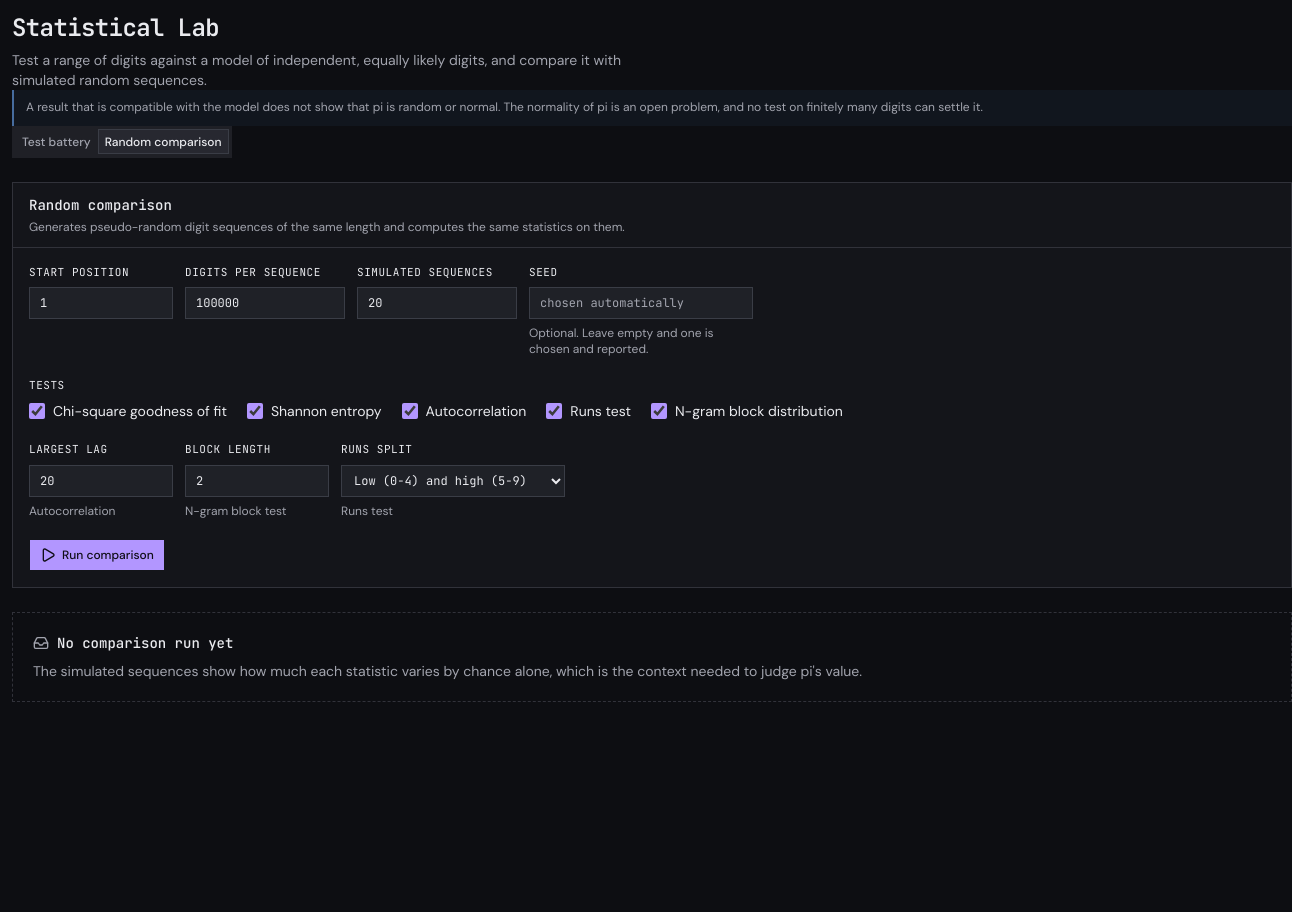
Test: LabView random comparison › enforces the total simulated digit budget
Replace the text in the field labelled "Digits per sequence" with "1000000": [265, 303] box [185,287,345,319]
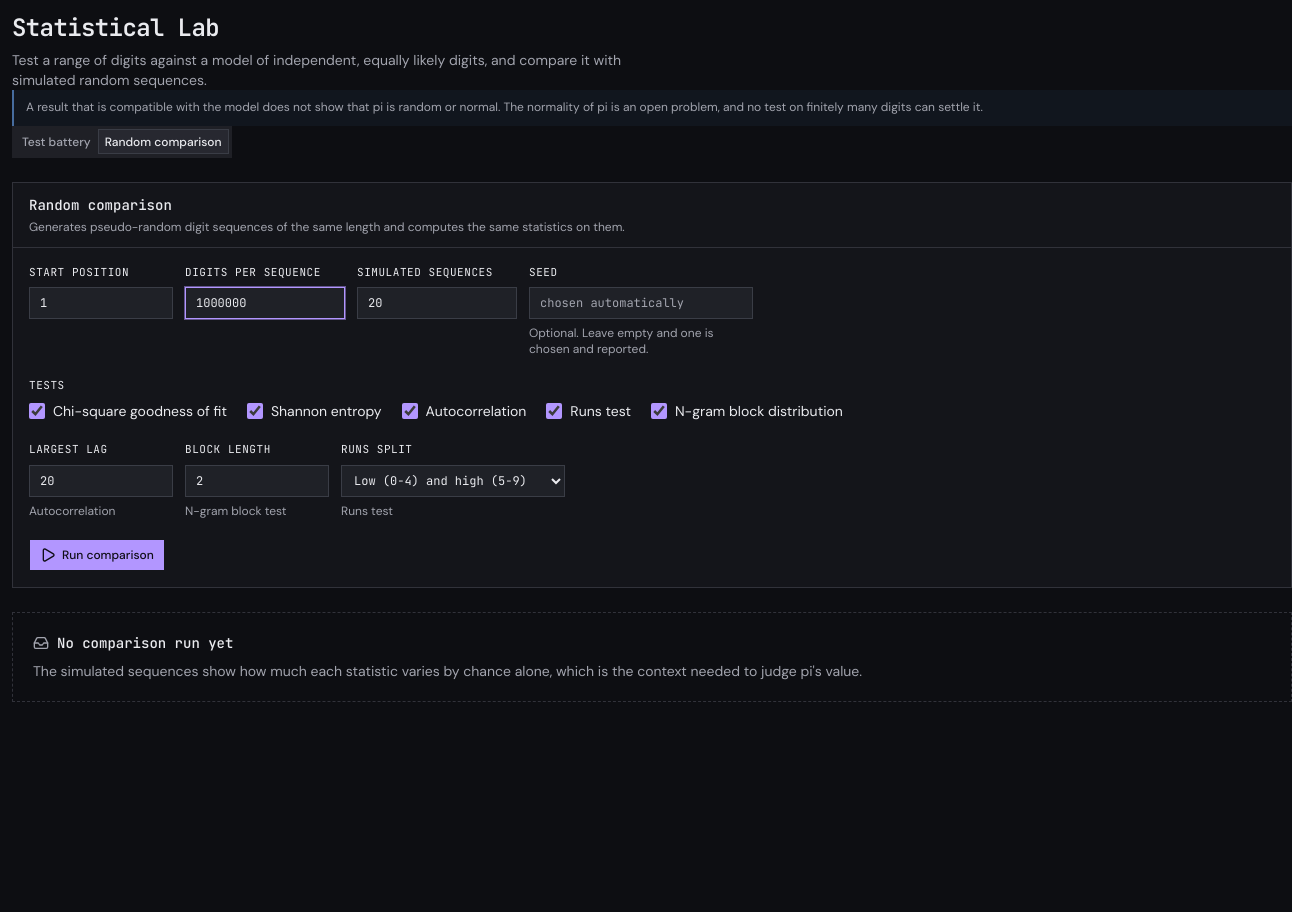
Replace the text in the field labelled "Simulated sequences" with "100": [437, 303] box [357,287,517,319]
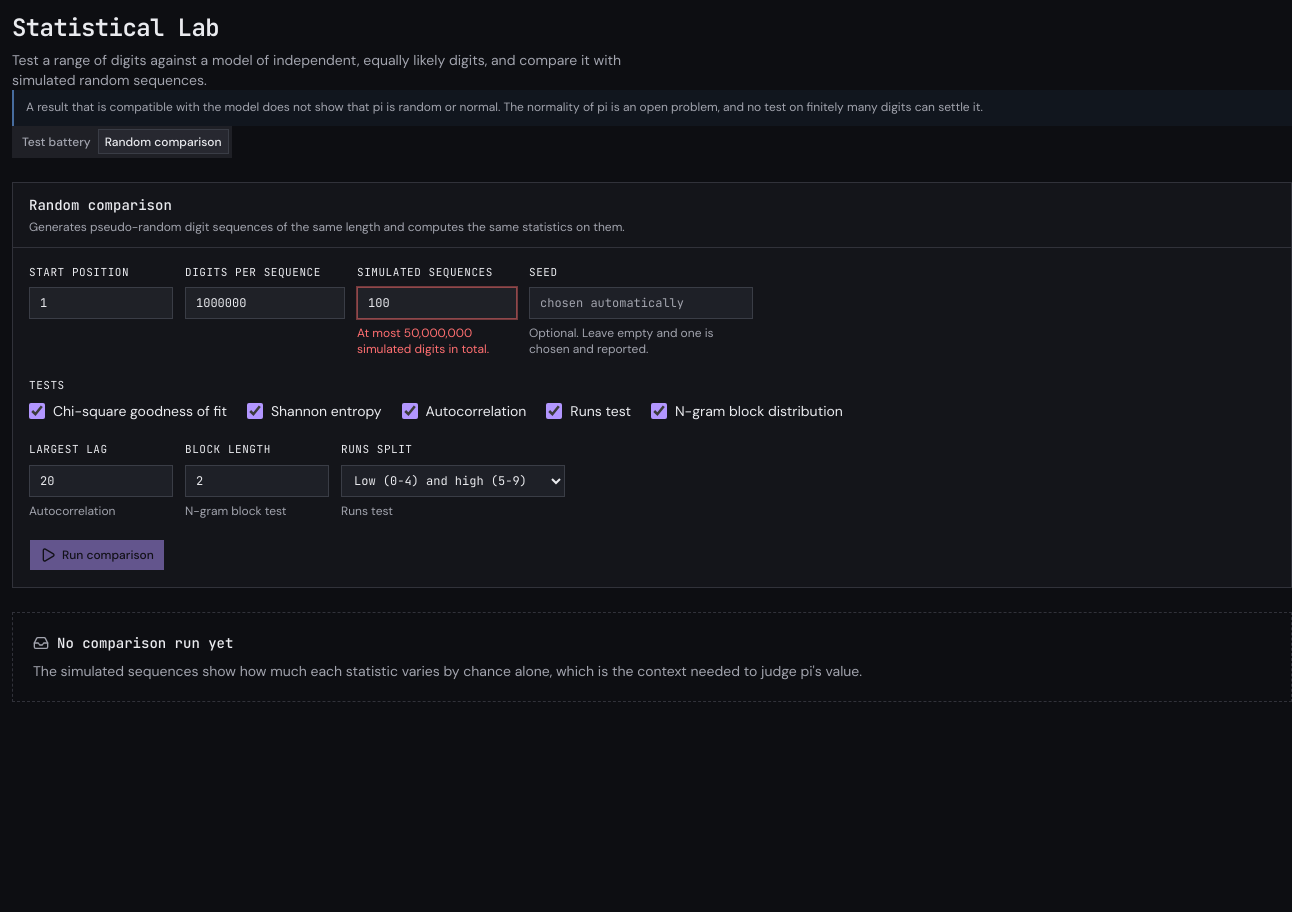
Expected: the text "At most 50,000,000 simulated digits in total." is shown, [357,325,489,357]
